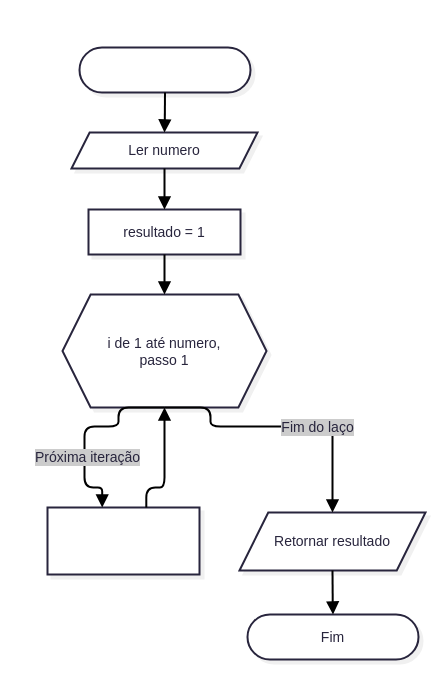
Image size: 447x681. Some labels were removed from this diagram. Here are the shapes that lost their labels. From the top down, the centre of each, then its label:
At point 166,71: "Início".
At point 125,542: "resultado = resultado * i".
